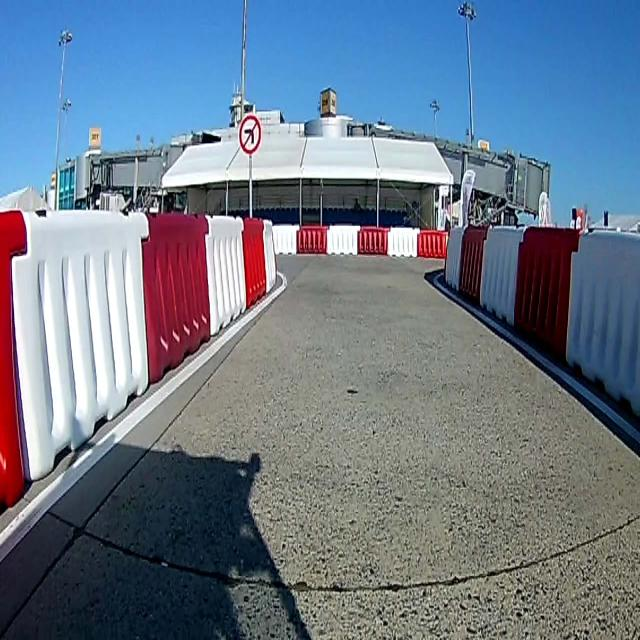soladonulmez: (239, 116, 261, 152)
